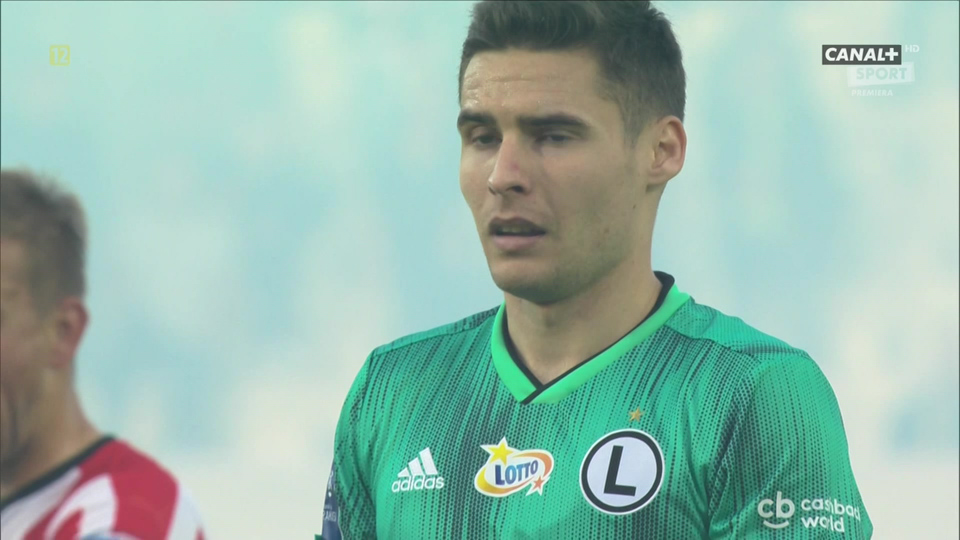Adidas: (392, 447, 444, 495)
